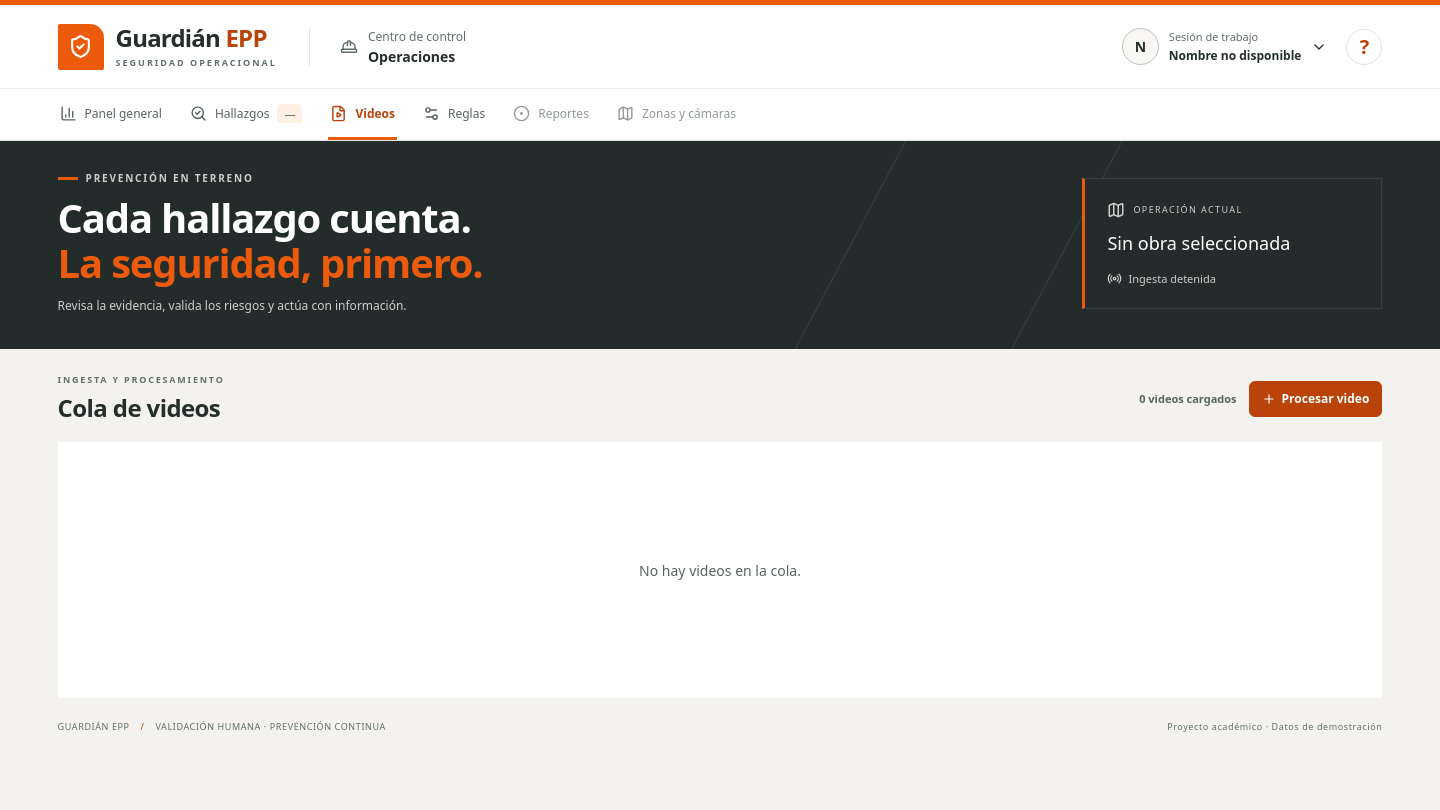
Test: con procesar_videos, «Procesar video» ofrece las cámaras de los catálogos de la aplicación
This screenshot has width=1440, height=810.
Click the button "Procesar video" at (1316,399), box [1249, 381, 1382, 417]
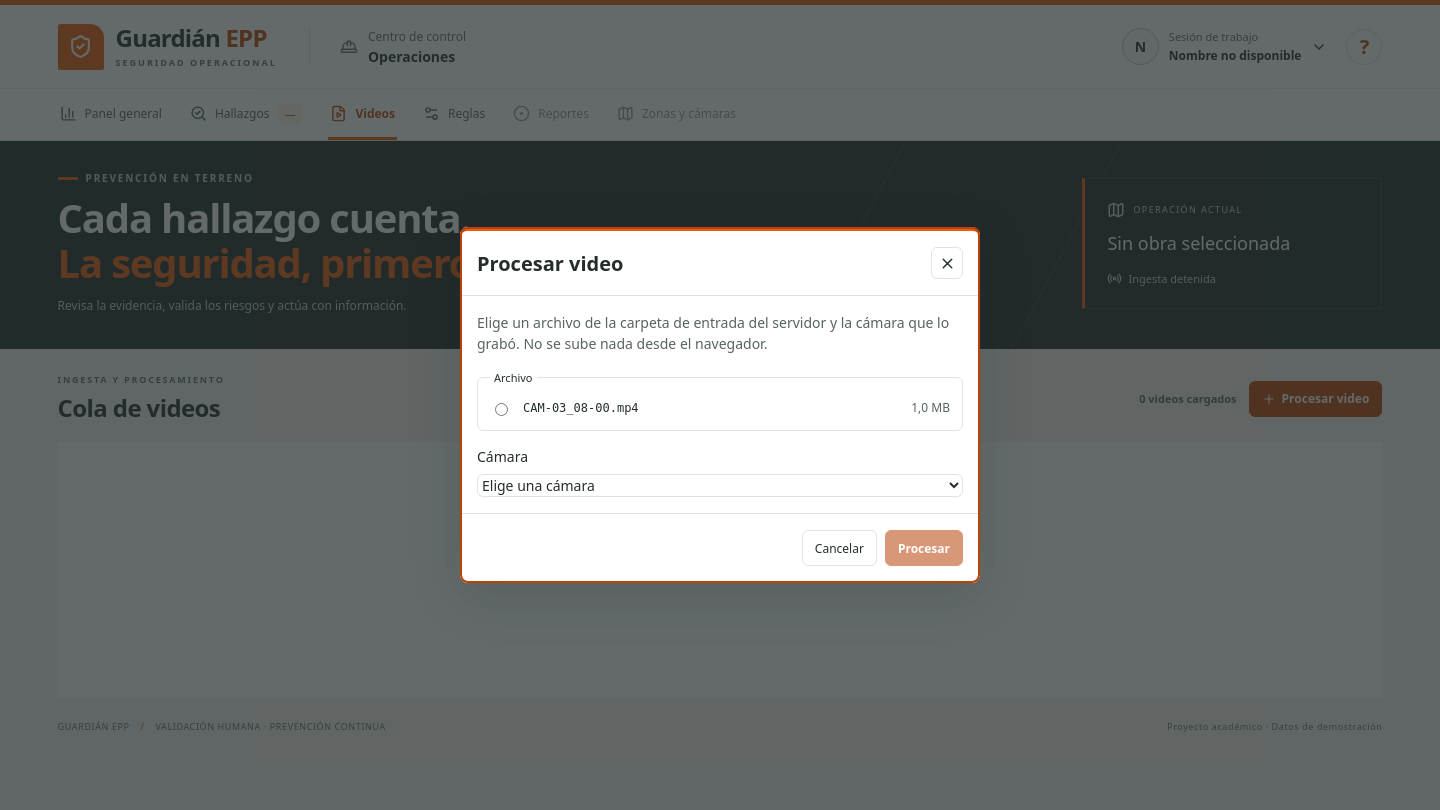
Check: the radio button labelled "CAM-03_08-00.mp4 1,0 MB" is shown, box [495, 402, 508, 416]
